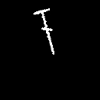double_crochet: (34, 9, 53, 53)
